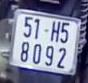0: (33, 43, 42, 65)
1: (34, 18, 40, 41)
2: (56, 47, 69, 73)
5: (22, 15, 32, 40), (62, 19, 70, 44)
8: (19, 40, 31, 64)
9: (45, 44, 55, 67)
H: (50, 17, 59, 44)
